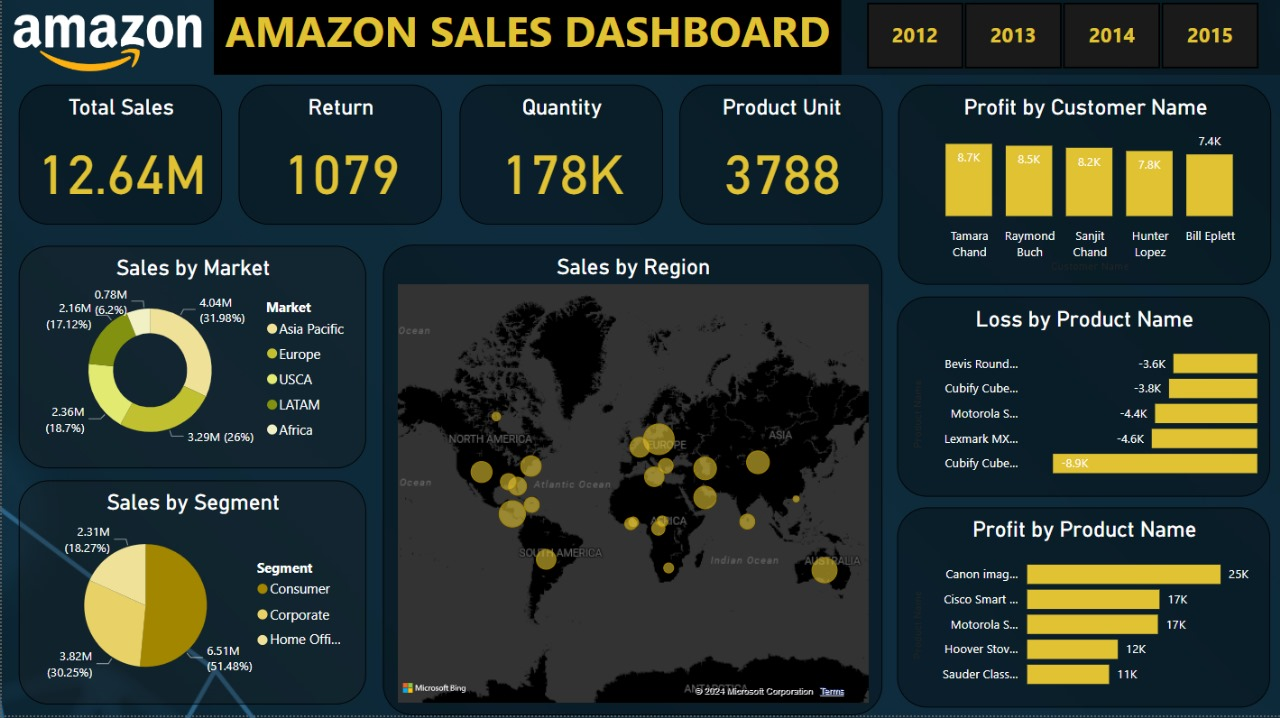

The page's visual inventory and layout, read from the dashboard file:
{"tool":"powerbi","page":{"name":"Page 1","canvas":[1280,720],"ordinal":0},"visuals":[{"type":"textbox","box":[211.6,0,627.3,79.5],"z":0},{"type":"image","box":[0,3.7,211.6,88],"z":1000},{"type":"map","title":"Sales by Region","fields":{"Category":["Orders.Region"],"Size":["Orders.Sales"]},"box":[381.5,249.5,498.9,470.8],"z":2000},{"type":"slicer","title":"YEAR","fields":{"Values":["Orders.Year"]},"box":[838.9,0,441.4,79.5],"z":3000},{"type":"barChart","title":"Profit by Product Name","fields":{"Y":["Orders.Profit"],"Category":["Orders.Product Name"]},"box":[895.1,512.1,373,200],"z":4000},{"type":"card","title":"Total Sales","fields":{"Values":["Orders.Sales"]},"box":[17.1,89,203,140],"z":5000},{"type":"columnChart","title":"Profit by Customer Name","fields":{"Y":["Orders.Profit"],"Category":["Orders.Customer Name"]},"box":[896.3,89.3,373,200],"z":6000},{"type":"barChart","title":"Loss by Product Name","fields":{"Y":["Orders.Profit"],"Category":["Orders.Product Name"]},"box":[895.1,300.7,373,200],"z":9000},{"type":"card","title":"Return","fields":{"Values":["Returns.Return1"]},"box":[237.2,89,203,140],"z":11000},{"type":"card","title":"Quantity","fields":{"Values":["Orders.Quantity"]},"box":[457.3,89,203,140],"z":12000},{"type":"card","title":"Product Unit","fields":{"Values":["Orders.Product Name"]},"box":[677.4,89,203,140],"z":13000},{"type":"pieChart","title":"Sales by Segment","fields":{"Y":["Orders.Sales"],"Category":["Orders.Segment"]},"box":[16.5,484.4,347.2,223.7],"z":13001},{"type":"donutChart","title":"Sales by Market","fields":{"Y":["Orders.Sales"],"Category":["Orders.Market"]},"box":[16.5,249.7,347.2,222.3],"z":13002}]}

Visuals, with their boxes in screenshot pixels (x1, y1, x2, y2), scaled from the page's 1280x720 canvas onto the 1280x718 screenshot:
textbox: 212,0,839,79
image: 0,4,212,91
"Sales by Region" map: 382,249,880,717
"YEAR" slicer: 839,0,1279,79
"Profit by Product Name" barChart: 895,511,1268,710
"Total Sales" card: 17,89,220,228
"Profit by Customer Name" columnChart: 896,89,1269,288
"Loss by Product Name" barChart: 895,300,1268,499
"Return" card: 237,89,440,228
"Quantity" card: 457,89,660,228
"Product Unit" card: 677,89,880,228
"Sales by Segment" pieChart: 16,483,364,706
"Sales by Market" donutChart: 16,249,364,471
